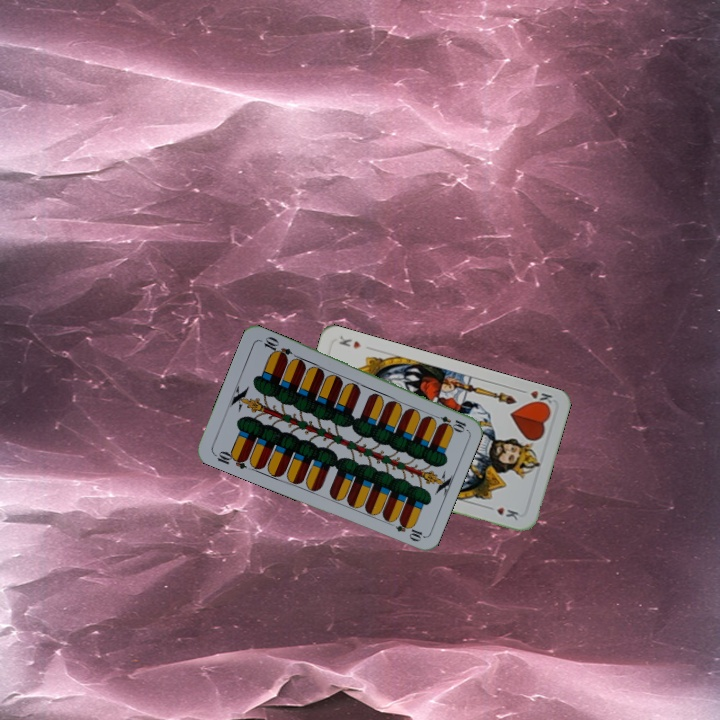E10: (210, 447, 250, 472), (429, 411, 469, 433)
HK: (516, 385, 556, 410)
